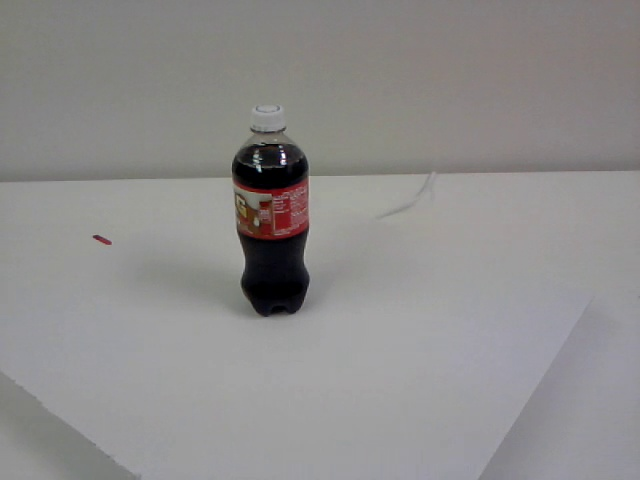botolplastik: (231, 103, 315, 315)
